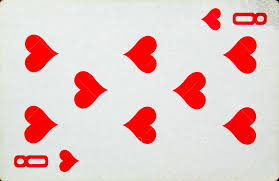eight of hearts: (3, 1, 277, 181)
